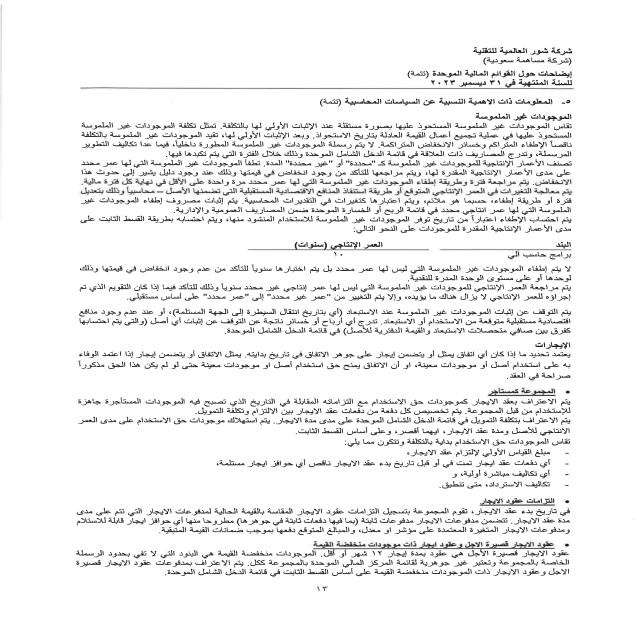notes: (388, 68, 582, 77)
text: (51, 94, 577, 584)
